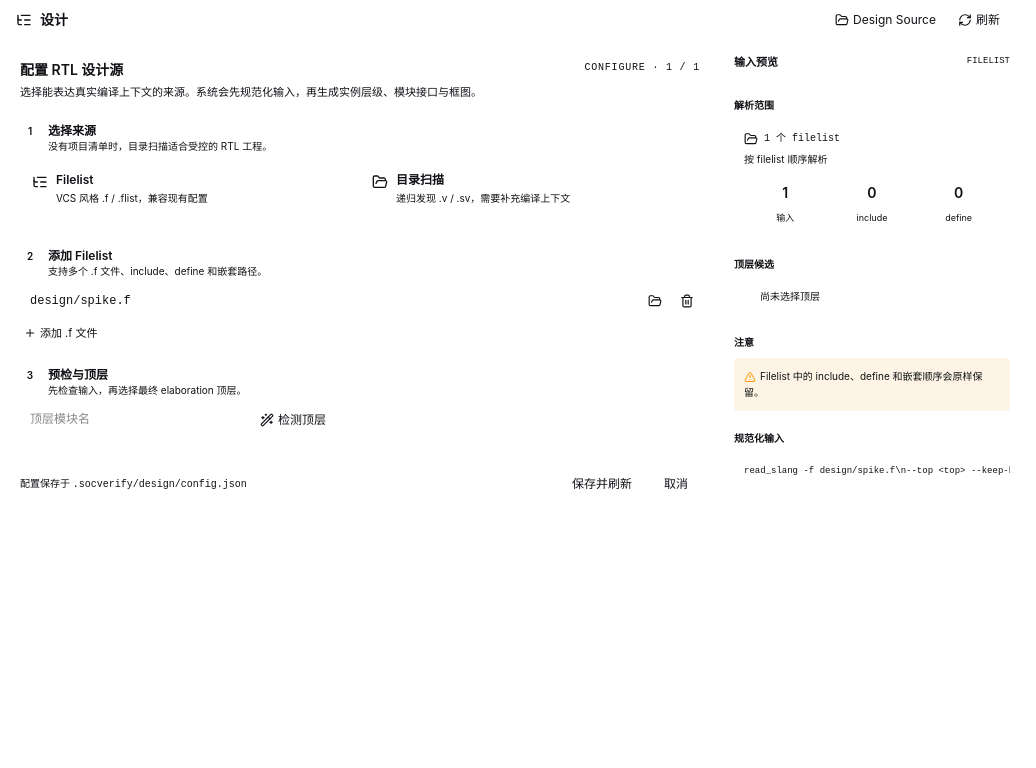
Test: DesignView 目录扫描来源 › 从 Filelist 切换后显示目录配置和输入预览
The width and height of the screenshot is (1036, 768).
Check: the element with test id "design-filelist-source-panel" is shown, box [20, 287, 700, 345]
Click the tab with test id "design-source-directory" at (530, 194), box [360, 162, 700, 226]
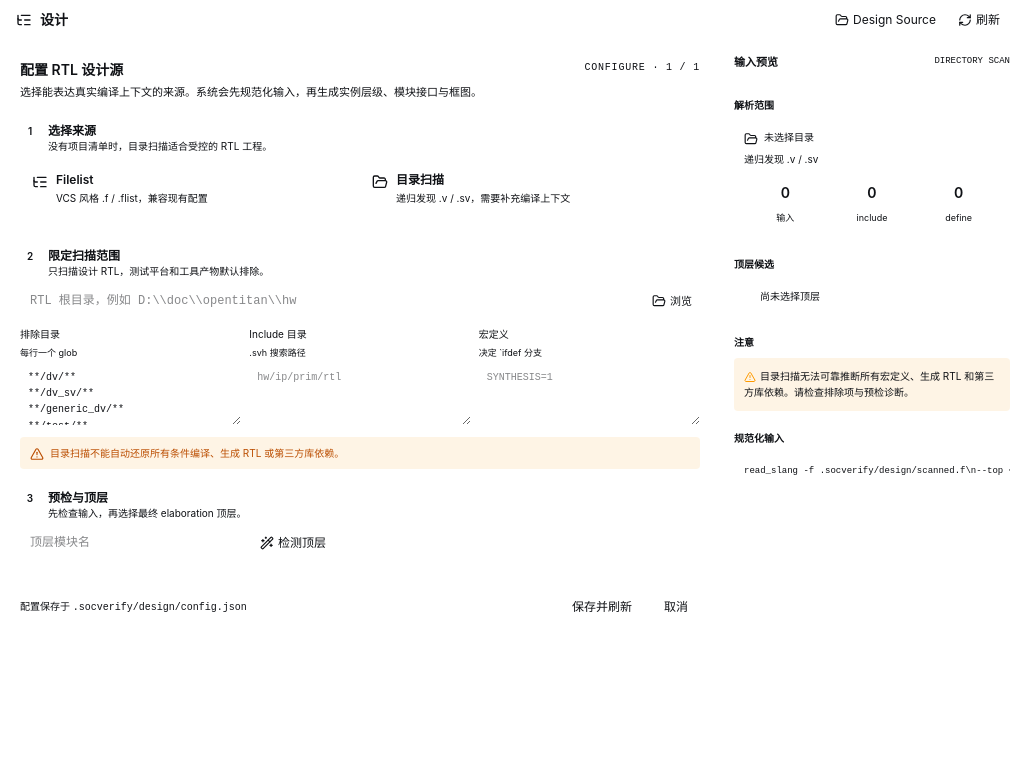
Check: the element with test id "design-directory-source-panel" is shown, box [20, 287, 700, 469]
Check: the element with test id "design-source-preview" shows "DIRECTORY SCAN", box [934, 56, 1010, 66]
